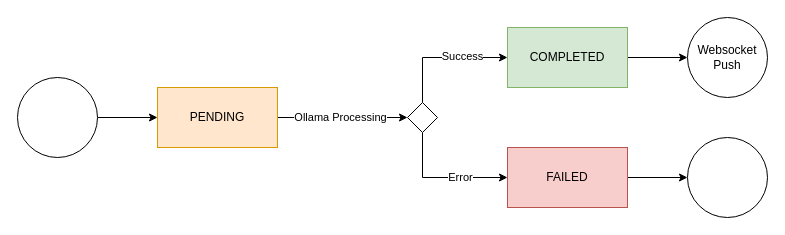
Image size: 785x235. Some labels were removed from this diagram. Each missing label, with the centre of its shape:
"Alert Triggered" goes at [57,117].
"DLQ Retry" goes at [727,177].
